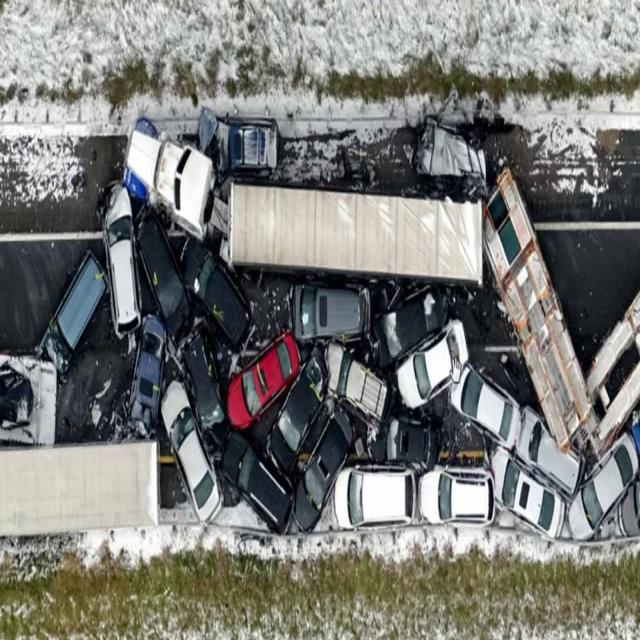traffic_incident: (75, 126, 624, 564)
